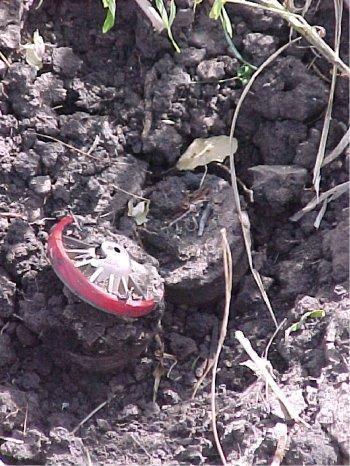pmn: (118, 170, 261, 304)
